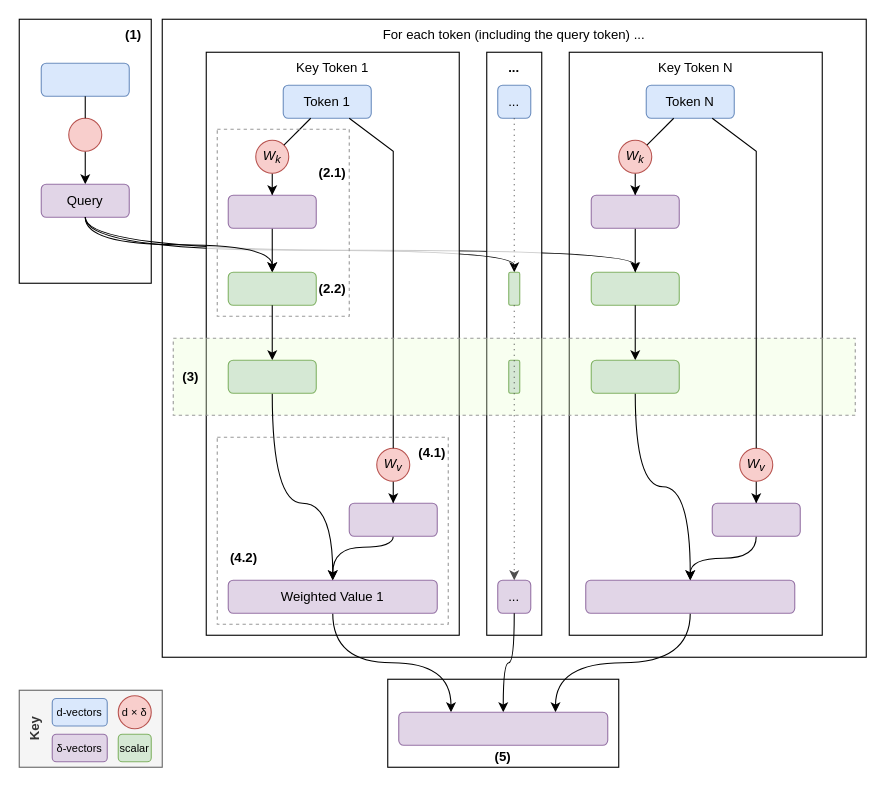
Some shapes in this 886 by 787 pixel diagram are drawn without their labels. Here are the shapes that lost their labels. From the top down, the centre of each, then its label:
the point at 84,79: Query Token
the point at 85,134: W q
the point at 271,211: Key 1
the point at 634,211: Key N
the point at 271,288: Score 1
the point at 634,288: Score N
the point at 271,376: Weight 1
the point at 634,376: Weight N
the point at 392,519: Value 1
the point at 755,519: Value N
the point at 690,596: Weighted Value N
the point at 503,728: Context Vector
